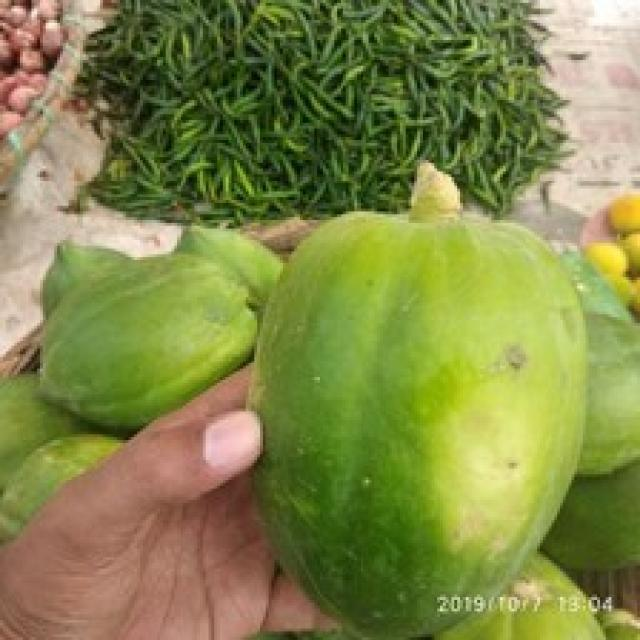Pepaya unrippen: (254, 191, 591, 635)
